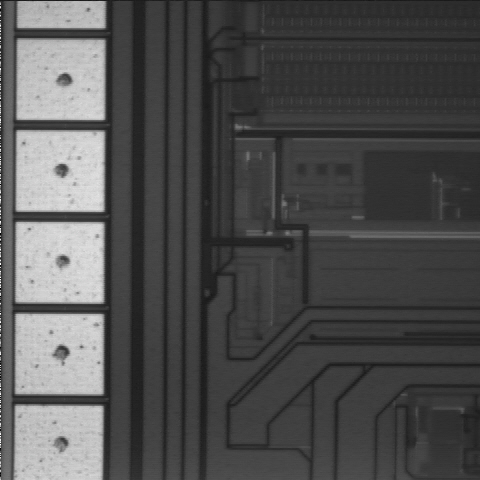pad: (16, 131, 104, 212), (16, 222, 104, 303), (17, 40, 104, 120), (16, 314, 103, 394)
